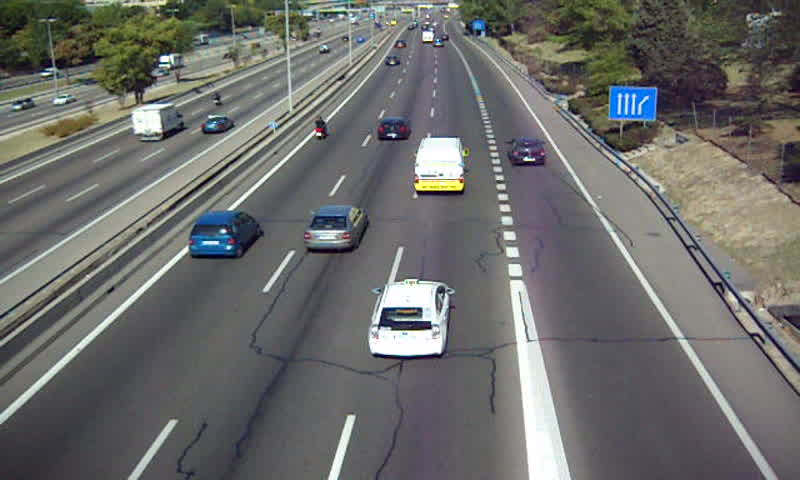car: (368, 281, 450, 355), (188, 212, 258, 258), (304, 206, 366, 251), (507, 136, 548, 166), (376, 118, 411, 142), (382, 56, 402, 68)
motorcycle: (314, 114, 328, 142)
van: (414, 137, 463, 192)
